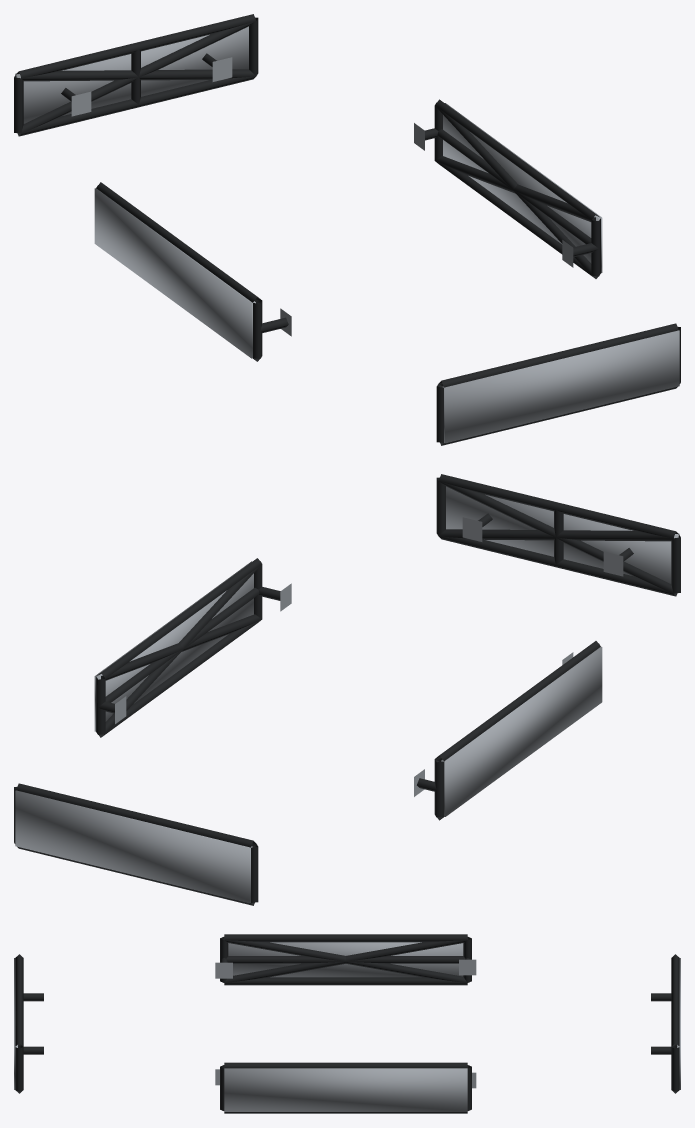
Rendered from hayase_vareta_protecao.glb.
3 views of the same model, one above another, from view 1: azimuth 30°, elevation 25°; view 2: azimuth 150°, elevation 25°; view 3: azimuth 270°, elevation 25° (orthographic). The views are drawn at different scales.
Visible parts, largest first — view 1: Protection_front_Level3_Details, Protection_left_Level3_Details, Protection_rear_Level1_Details, Protection_rear_Level3_Details, Protection_right_Level1_Details, Protection_rear_Level2_Details, Protection_right_Level2_Details, Protection_right_Level3_Details, Protection_front_Level1_Details, Protection_left_Level1_Details; view 2: Protection_rear_Level3_Details, Protection_left_Level3_Details, Protection_front_Level1_Details, Protection_front_Level3_Details, Protection_right_Level1_Details, Protection_front_Level2_Details, Protection_right_Level2_Details, Protection_right_Level3_Details, Protection_rear_Level1_Details, Protection_left_Level1_Details; view 3: Protection_right_Level3_Details, Protection_left_Level1_Details, Protection_left_Level2_Details, Protection_left_Level3_Details, Protection_right_Level1_Details, Protection_rear_Level1_Details, Protection_front_Level1_Details.
Boxes of the visible parts, x1,y1,x2,y2 form: Protection_front_Level3_Details: (442,330,679,443); Protection_left_Level3_Details: (94,188,255,358); Protection_rear_Level1_Details: (14,14,258,136); Protection_rear_Level3_Details: (15,26,248,123); Protection_right_Level1_Details: (414,99,600,278); Protection_rear_Level2_Details: (16,21,255,135); Protection_right_Level2_Details: (435,106,599,278); Protection_right_Level3_Details: (443,103,602,273); Protection_front_Level1_Details: (436,323,680,445); Protection_left_Level1_Details: (96,182,291,361); Protection_rear_Level3_Details: (15,790,252,903); Protection_left_Level3_Details: (441,646,602,816); Protection_front_Level1_Details: (436,474,680,596); Protection_front_Level3_Details: (446,486,679,583); Protection_right_Level1_Details: (96,558,291,737); Protection_front_Level2_Details: (439,481,678,595); Protection_right_Level2_Details: (97,564,261,737); Protection_right_Level3_Details: (94,561,253,731); Protection_rear_Level1_Details: (14,783,258,905); Protection_left_Level1_Details: (414,641,600,820); Protection_right_Level3_Details: (224,1068,467,1111); Protection_left_Level1_Details: (215,934,476,985); Protection_left_Level2_Details: (223,937,467,982); Protection_left_Level3_Details: (228,942,463,977); Protection_right_Level1_Details: (215,1062,476,1113); Protection_rear_Level1_Details: (651,954,679,1093); Protection_front_Level1_Details: (15,954,43,1093).
Size of the model in its own units: 1.99 by 0.354 by 4.22.
1 material, 1 textured.
